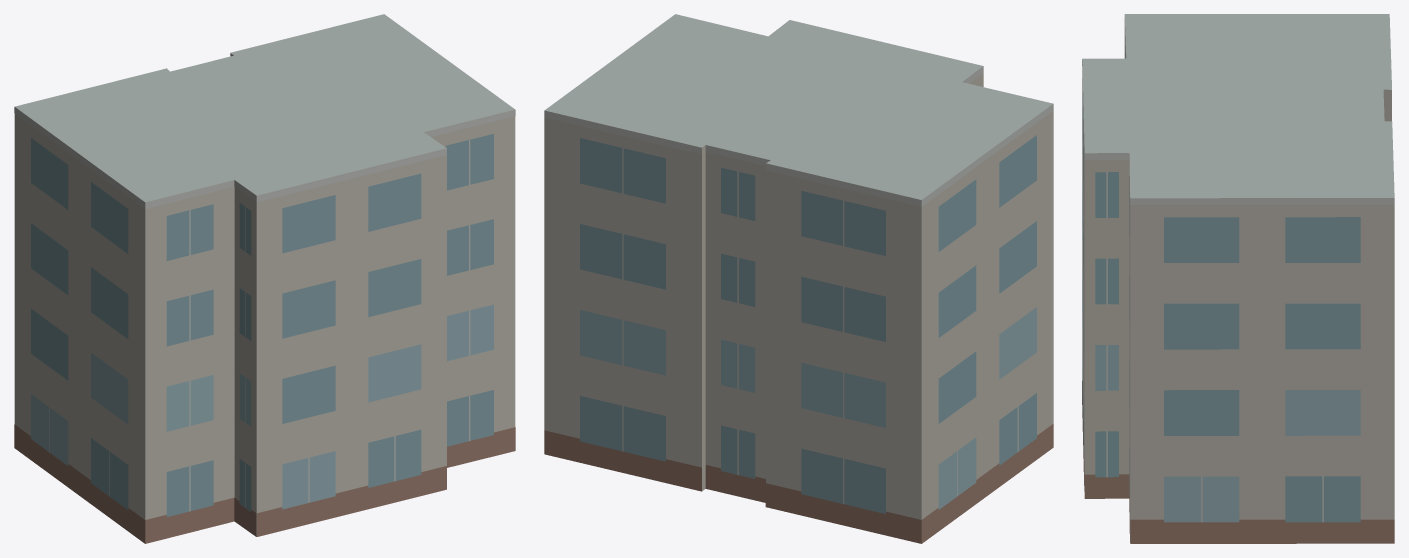
Rendered from survey-upis-32899135.glb.
3 views of the same model, side by side, from view 1: azimuth 30°, elevation 25°; view 2: azimuth 150°, elevation 25°; view 3: azimuth 270°, elevation 25° (orthographic).
Visible parts, largest first — view 1: survey-upis-32899135.tmp; view 2: survey-upis-32899135.tmp; view 3: survey-upis-32899135.tmp.
Part boxes in pixels (x1,y1,x2,y2): survey-upis-32899135.tmp: [14, 14, 515, 543]; survey-upis-32899135.tmp: [544, 14, 1053, 543]; survey-upis-32899135.tmp: [1082, 14, 1394, 543].
Bounding box in the file's own units: 14.07 × 12.3 × 10.08.
